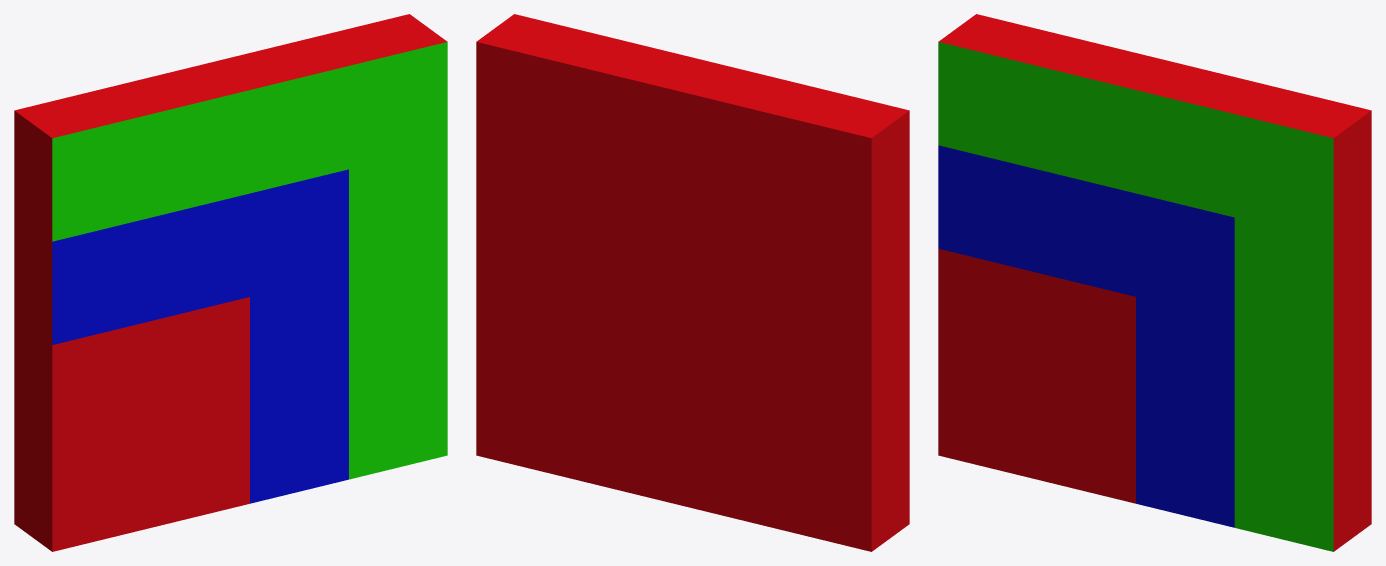
The model's file is Floor Corner.fbx.
The picture shows the model from 3 angles, left to right: view 1: azimuth 30°, elevation 25°; view 2: azimuth 150°, elevation 25°; view 3: azimuth 330°, elevation 25°; orthographic projection.
Visible parts, largest first — view 1: Cube; view 2: Cube; view 3: Cube.
Boxes of the visible parts, box(x1,y1,x2,y2) form: Cube: box(14, 14, 447, 551); Cube: box(476, 14, 909, 551); Cube: box(938, 14, 1371, 551).
Size of the model in its own units: 300 by 300 by 50.
